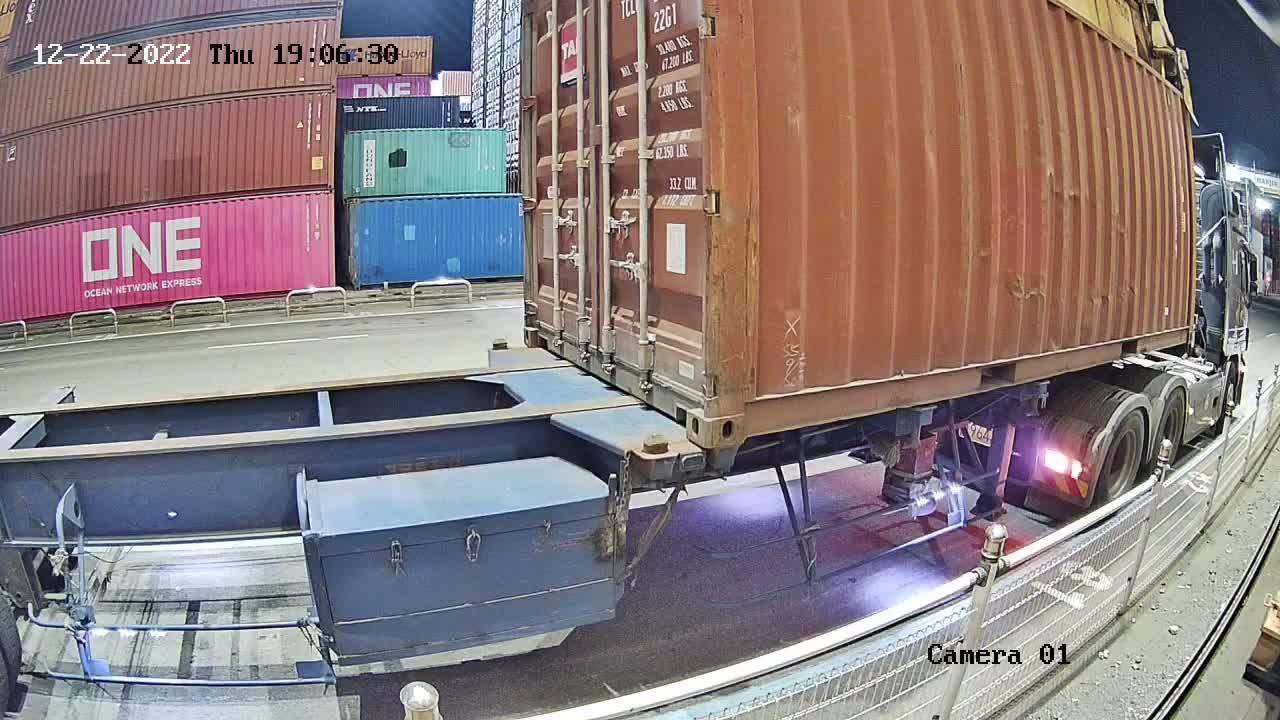Chassis: (483, 348, 679, 482)
Cone: (633, 432, 675, 482), (710, 445, 742, 480), (486, 335, 512, 354)
Hole_L: (705, 372, 777, 449), (522, 301, 559, 354)
Hole_R: (666, 362, 710, 449)
Tire: (1101, 414, 1146, 501), (1153, 390, 1185, 471)
